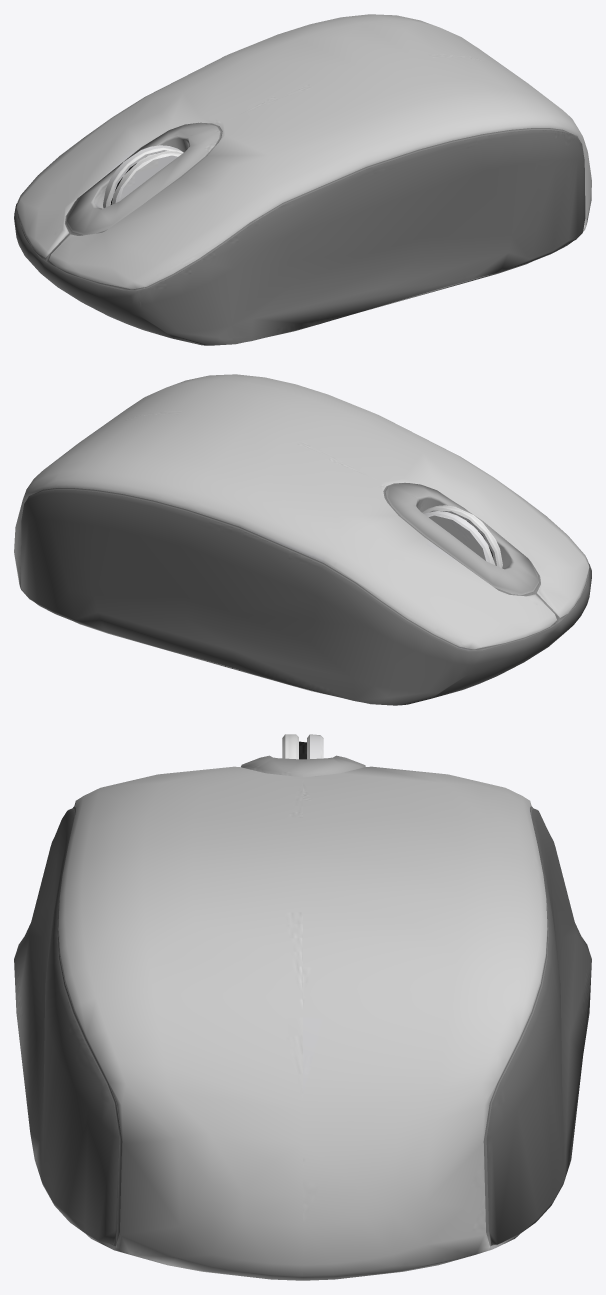
Rendered from mouse.glb.
3 renders of one model, top to bottom at view 1: azimuth 30°, elevation 25°; view 2: azimuth 150°, elevation 25°; view 3: azimuth 270°, elevation 25°, orthographic. The views are drawn at different scales.
Visible parts, largest first — view 1: mouse.002; view 2: mouse.002; view 3: mouse.002.
Part boxes in pixels (x1=…): mouse.002: x1=14, y1=14, x2=591, y2=345; mouse.002: x1=14, y1=374, x2=591, y2=705; mouse.002: x1=14, y1=734, x2=591, y2=1280.
Size of the model in its own units: 0.1241 by 0.0376 by 0.0717.
1 material, 1 textured.
